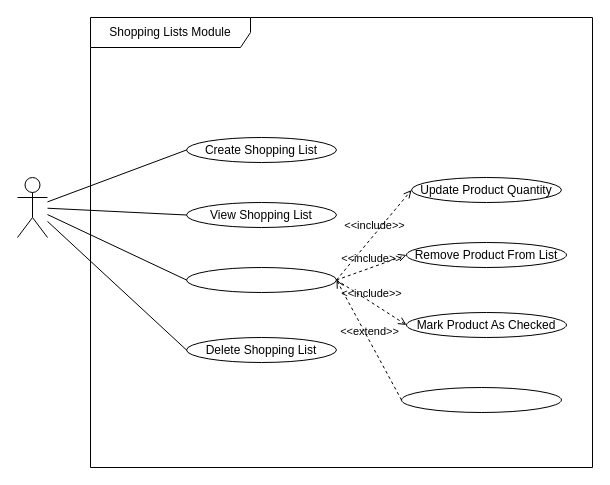
Image size: 610x485. Some labels were removed from this diagram. Here are the shapes that lost their labels. From the top down, the centre of each, then its label:
(x=32, y=207): User
(x=261, y=279): Edit Shopping List
(x=481, y=399): Clear Shopping List
